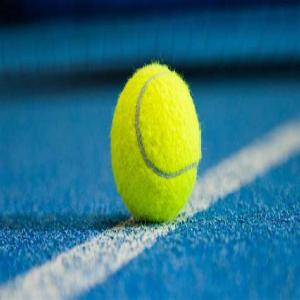Football: (109, 62, 203, 226)
